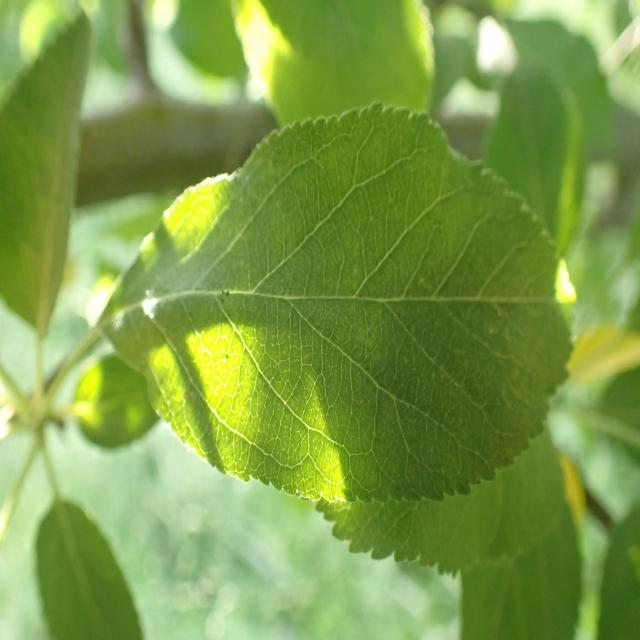healthy: (98, 100, 577, 576), (0, 1, 93, 336), (233, 0, 435, 128)
